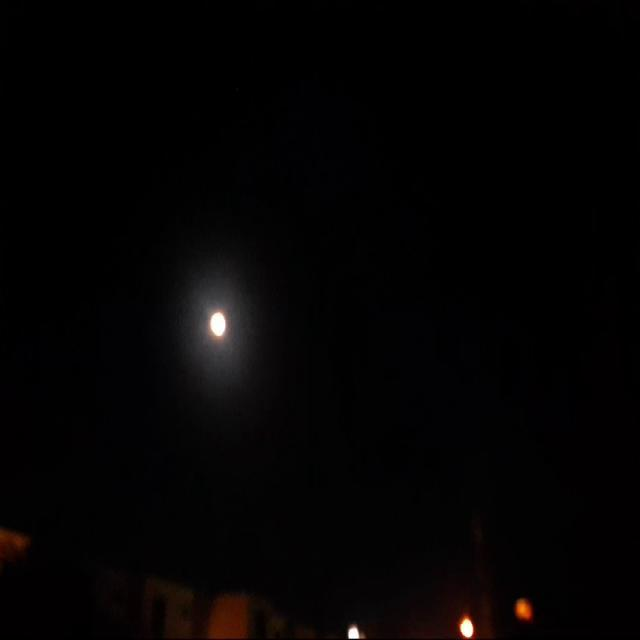moon: (207, 308, 229, 347)
